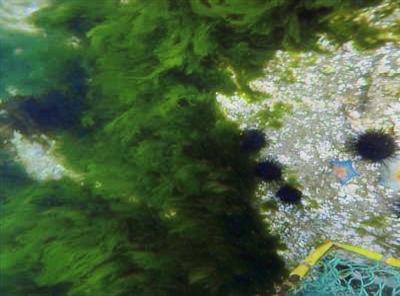urchin: (347, 126, 400, 165), (256, 155, 286, 184), (275, 182, 305, 208), (238, 127, 269, 151)
